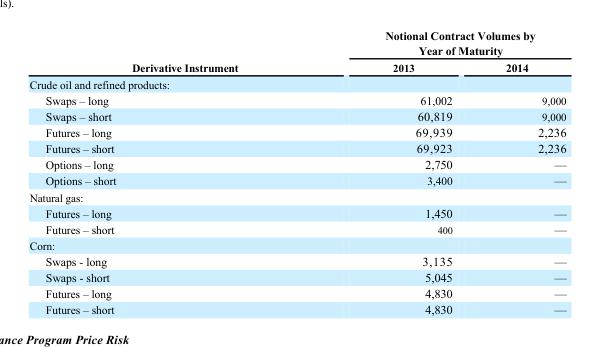table: (28, 28, 565, 316)
table column: (28, 28, 311, 316), (311, 28, 478, 316), (478, 28, 565, 316)
table column header: (28, 28, 565, 75)
table projected row header: (28, 75, 565, 91), (28, 188, 565, 204), (28, 237, 565, 252)
table row: (28, 28, 565, 58), (28, 58, 565, 75), (28, 139, 565, 156), (28, 220, 565, 237), (28, 268, 565, 285), (28, 75, 565, 91), (28, 91, 565, 107), (28, 107, 565, 123), (28, 123, 565, 139), (28, 156, 565, 172), (28, 172, 565, 188), (28, 188, 565, 204), (28, 204, 565, 220), (28, 252, 565, 268), (28, 285, 565, 301), (28, 237, 565, 252), (28, 301, 565, 316)
table spanning cell: (28, 28, 311, 75), (311, 28, 565, 58)
